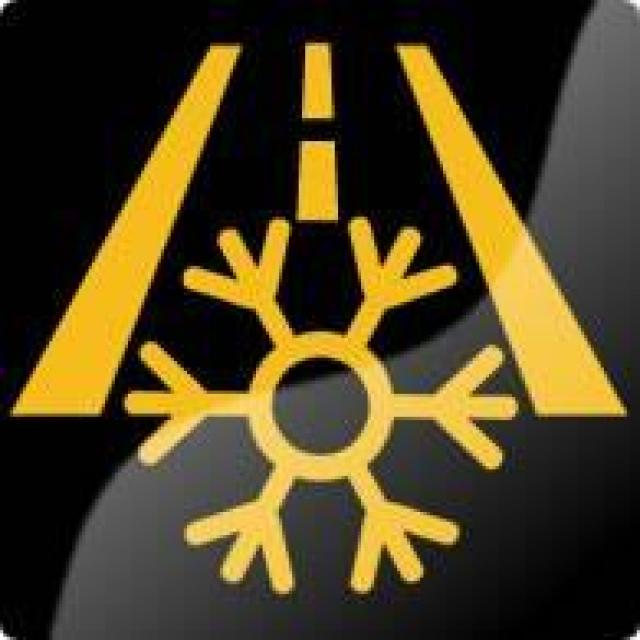kontrolka: (5, 54, 636, 587)
